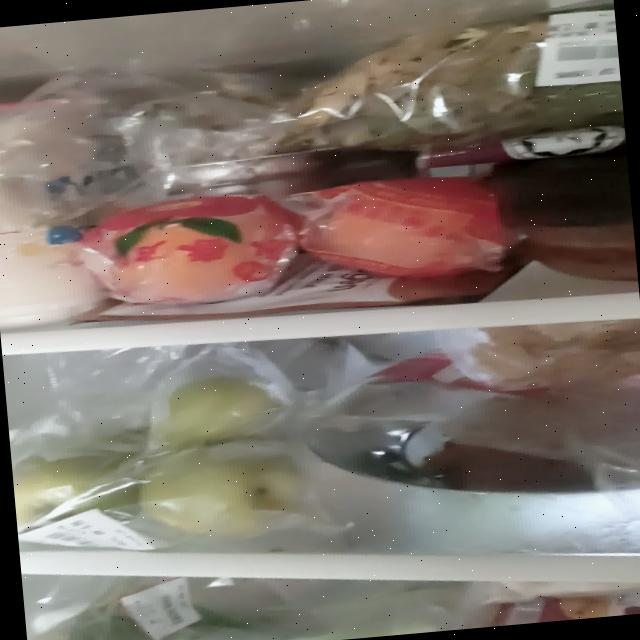apple: (5, 368, 314, 560)
orange: (71, 168, 525, 316)
